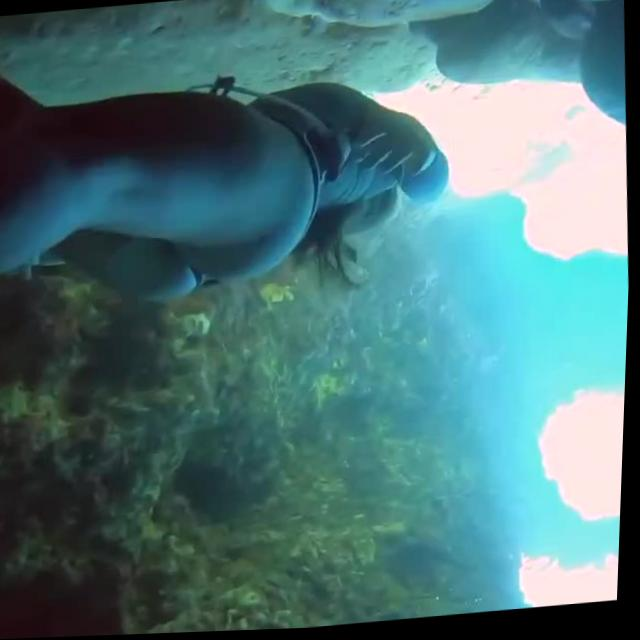human: (0, 4, 479, 408)
